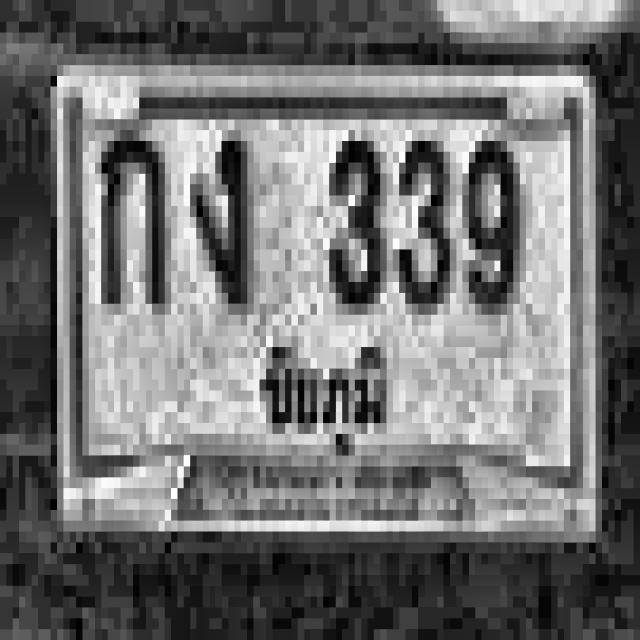license-plate: (54, 61, 597, 544)
